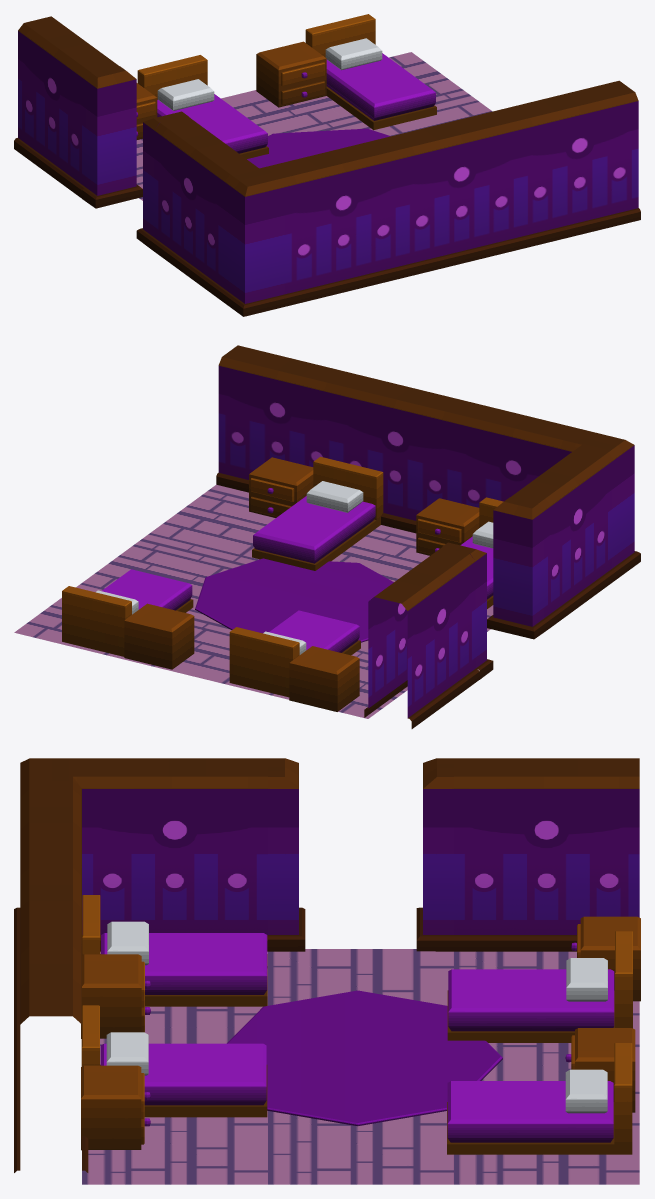
The model's file is Stage1_Bedroom1.fbx.
3 renders of one model, top to bottom at view 1: azimuth 30°, elevation 25°; view 2: azimuth 150°, elevation 25°; view 3: azimuth 270°, elevation 25°, orthographic. The views are drawn at different scales.
Parts seen in each view (by area): view 1: Floor_v4.002; view 2: Floor_v4.002; view 3: Floor_v4.002.
Boxes of the visible parts, <box> form: Floor_v4.002: <box>14,14,640,316</box>; Floor_v4.002: <box>14,345,640,728</box>; Floor_v4.002: <box>14,758,640,1184</box>.
Size of the model in its own units: 1010 by 300 by 1012.
